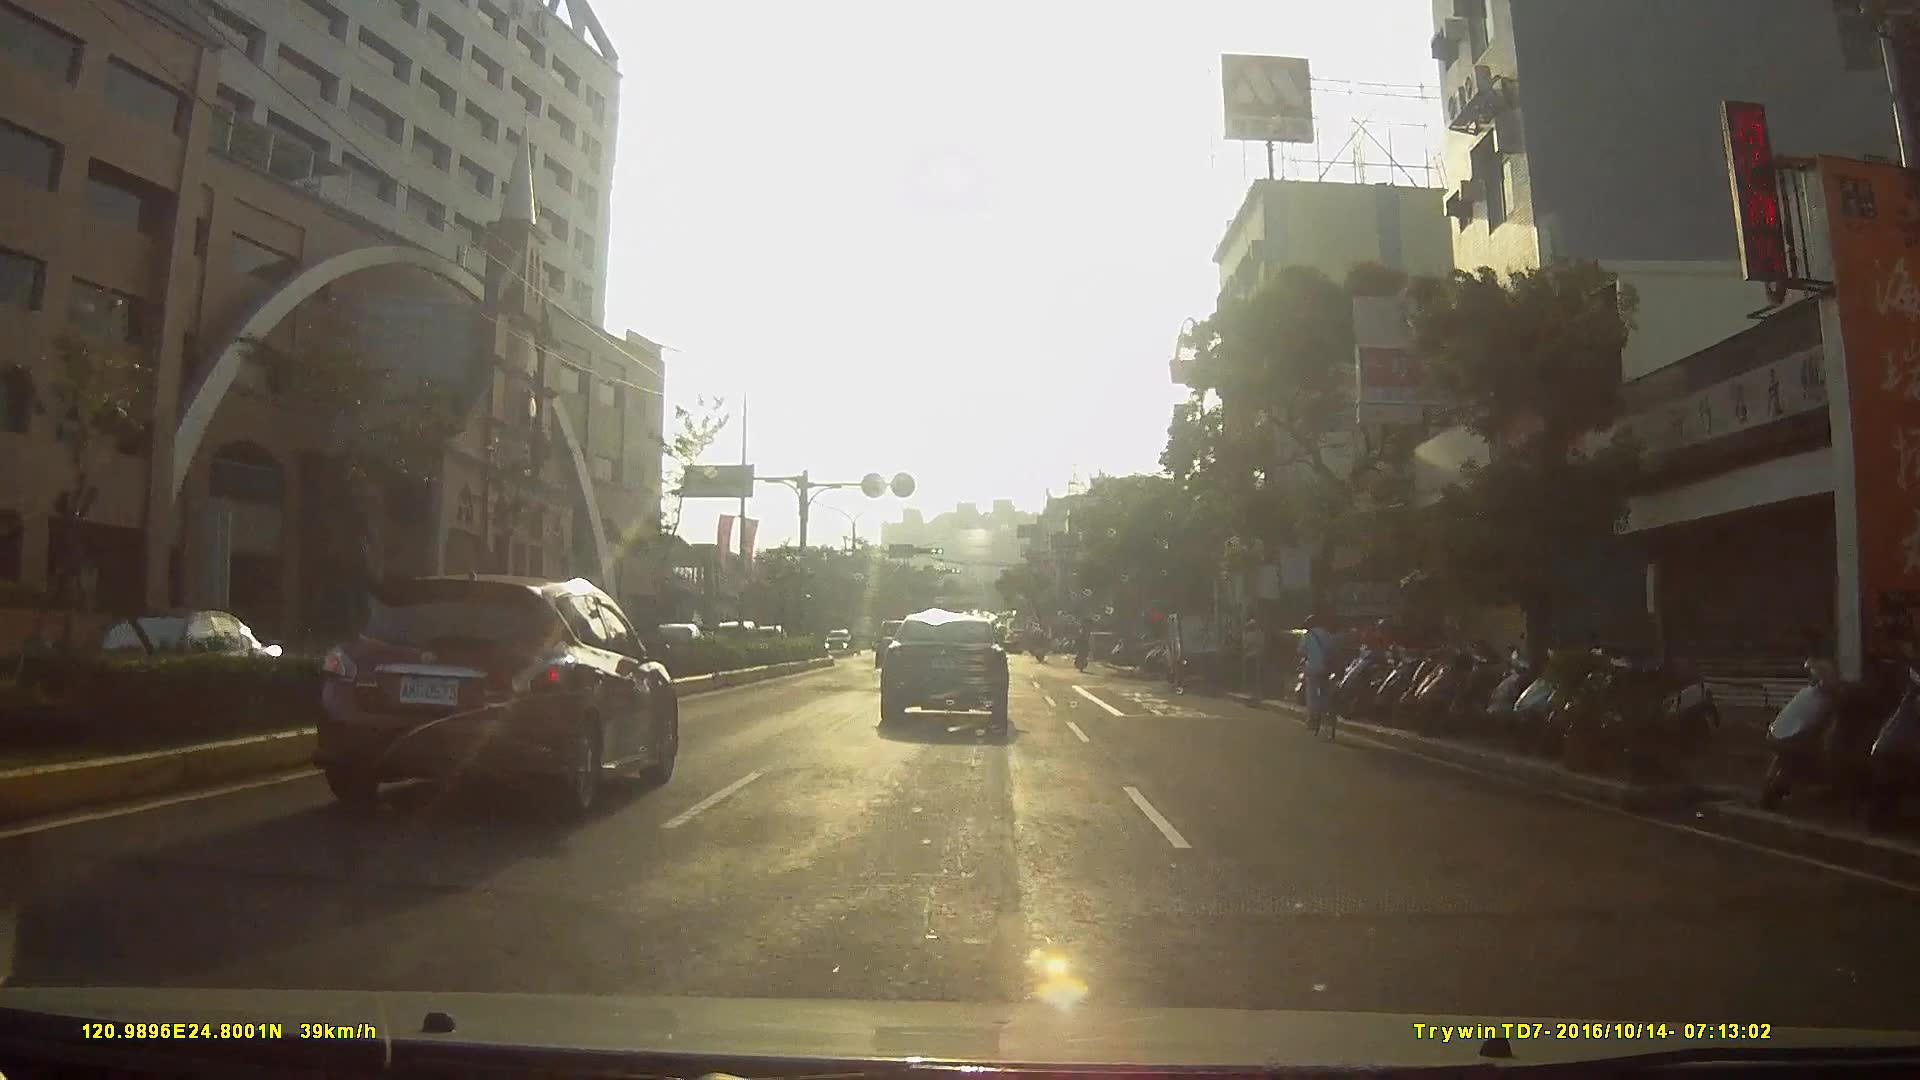pedestrian: (1245, 615, 1277, 699)
rider: (1293, 614, 1350, 743)
vehicle: (308, 567, 693, 818), (874, 610, 1020, 741), (1163, 605, 1242, 689), (763, 607, 822, 662)
